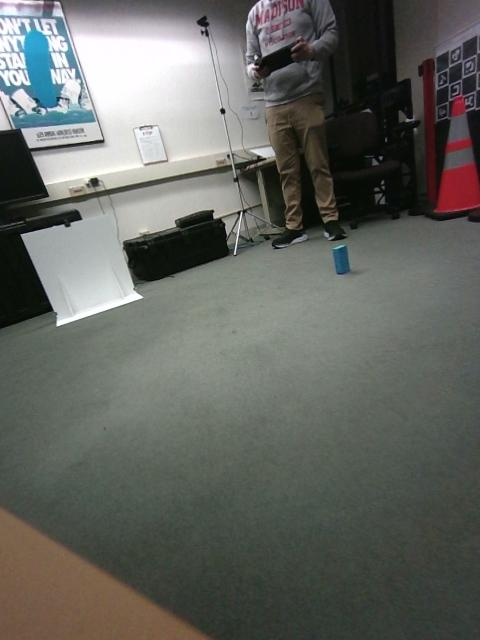block: (392, 308, 433, 380)
